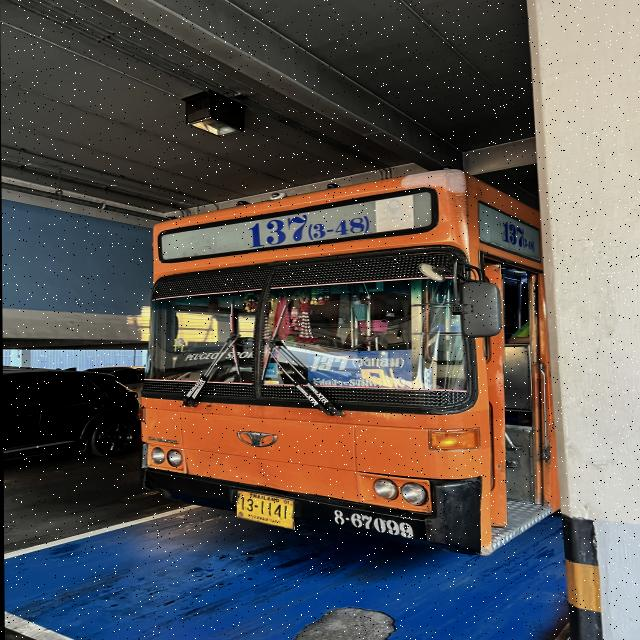BMTA-bus: (136, 169, 556, 557)
Bus Line Number: (242, 201, 372, 250)
Bus Side Number: (328, 506, 418, 542)
Destination Sign: (306, 349, 414, 387)
